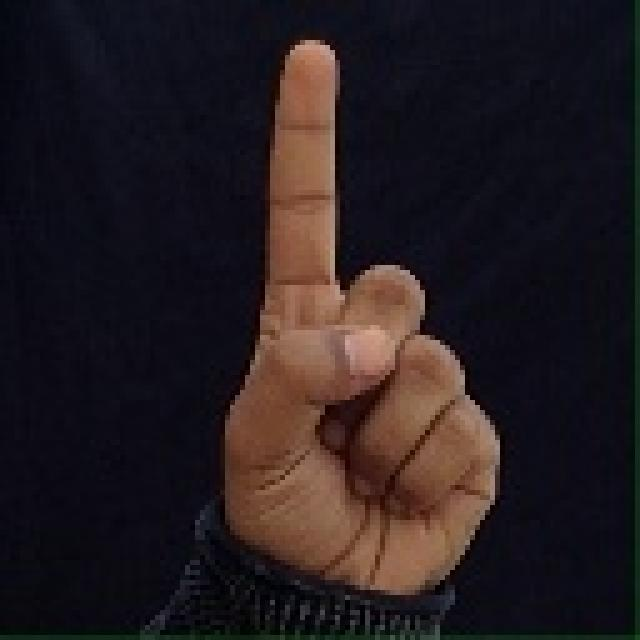Numeric-1: (223, 29, 495, 604)
